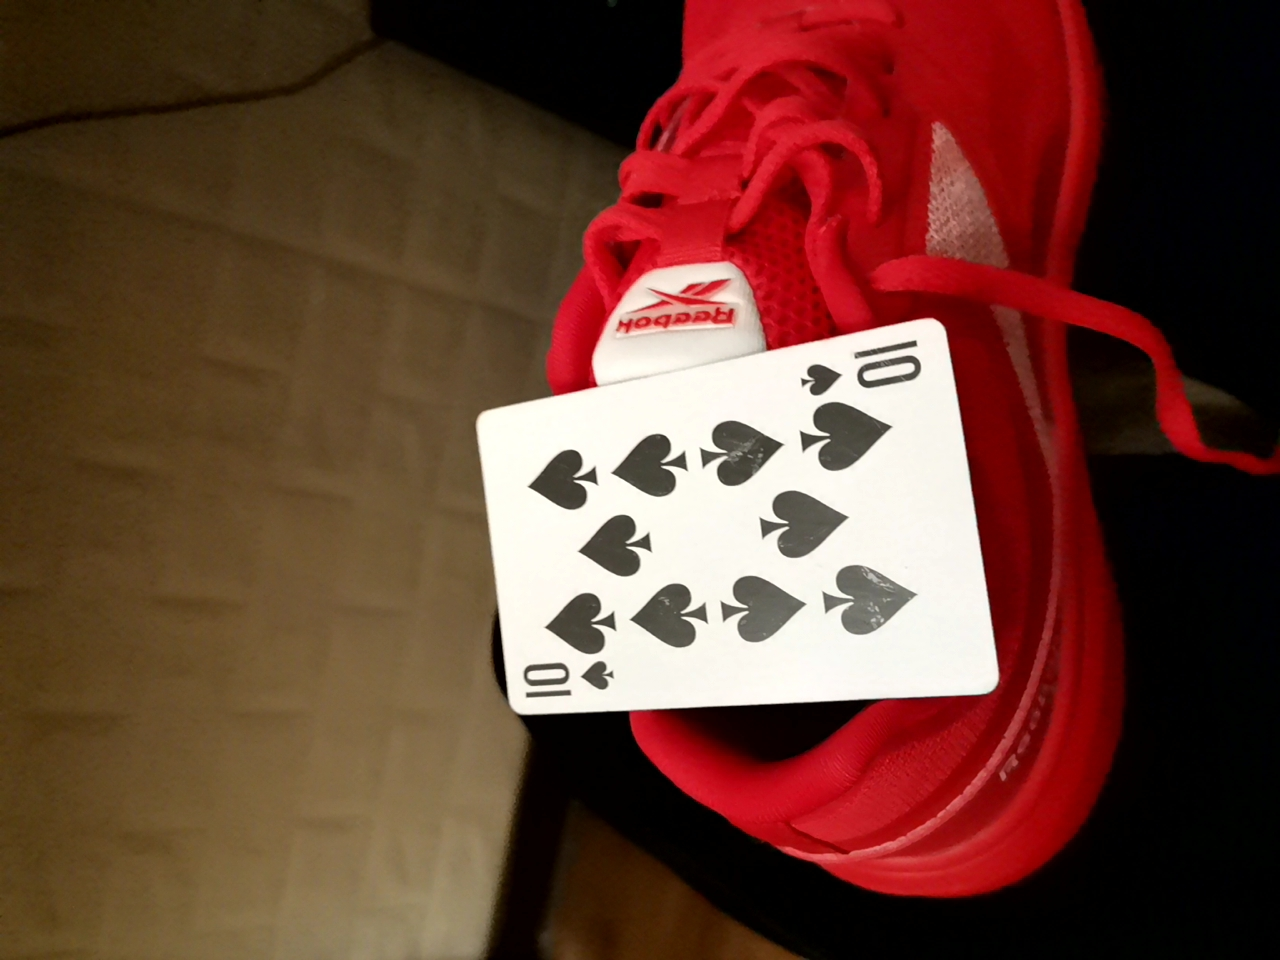ht 10: (424, 302, 973, 718)
